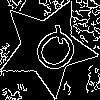Q: (22, 22, 84, 84)
